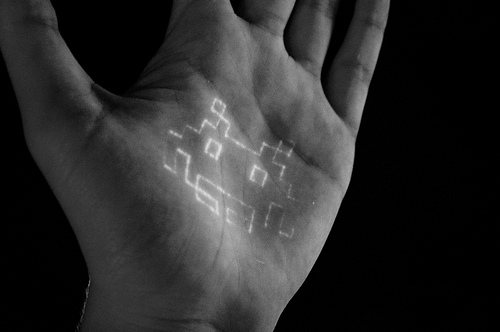palm: (143, 45, 313, 292)
